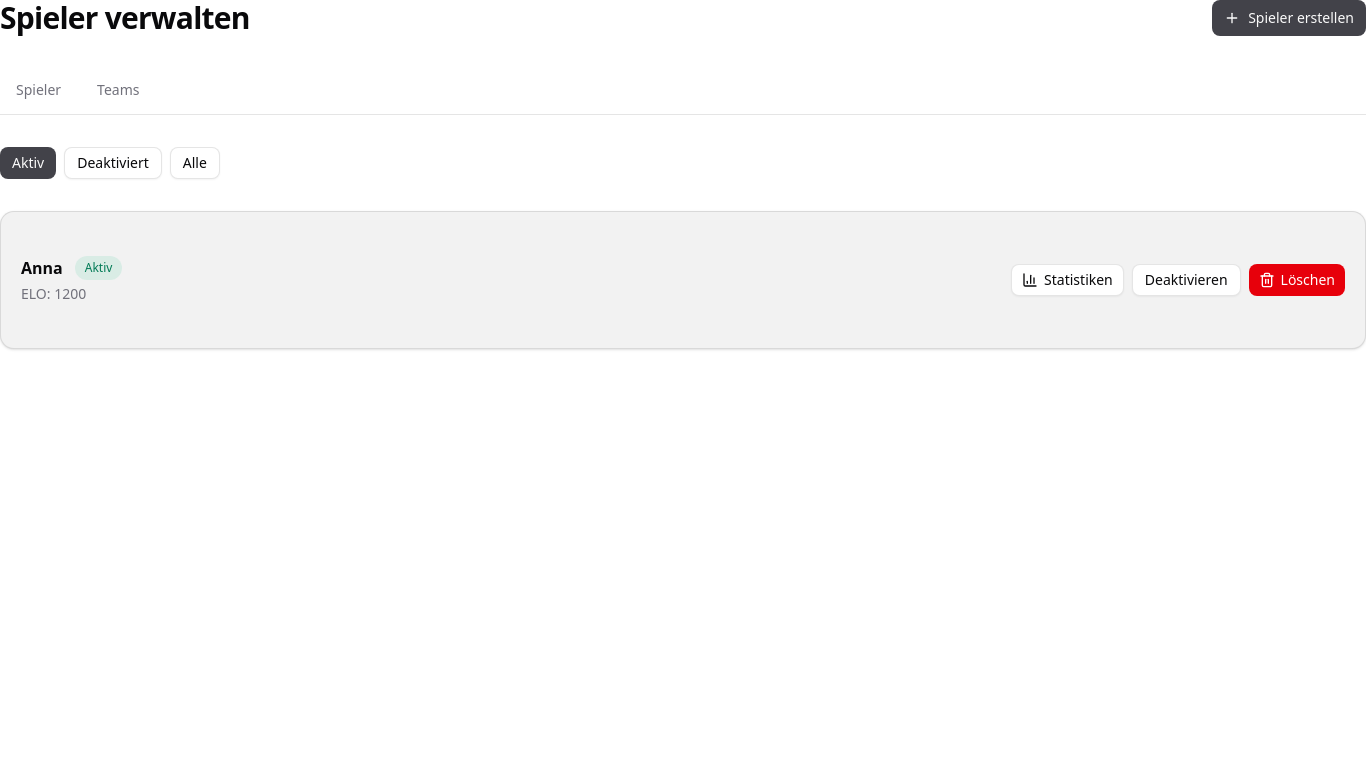
PlayersPage mutations › does not repeat a completed delete when refresh fails
Expected: the heading "Anna" is shown, [21,256,63,280]
Step 1. Click the button "Löschen" → (1297, 280), box [1249,264,1345,296]
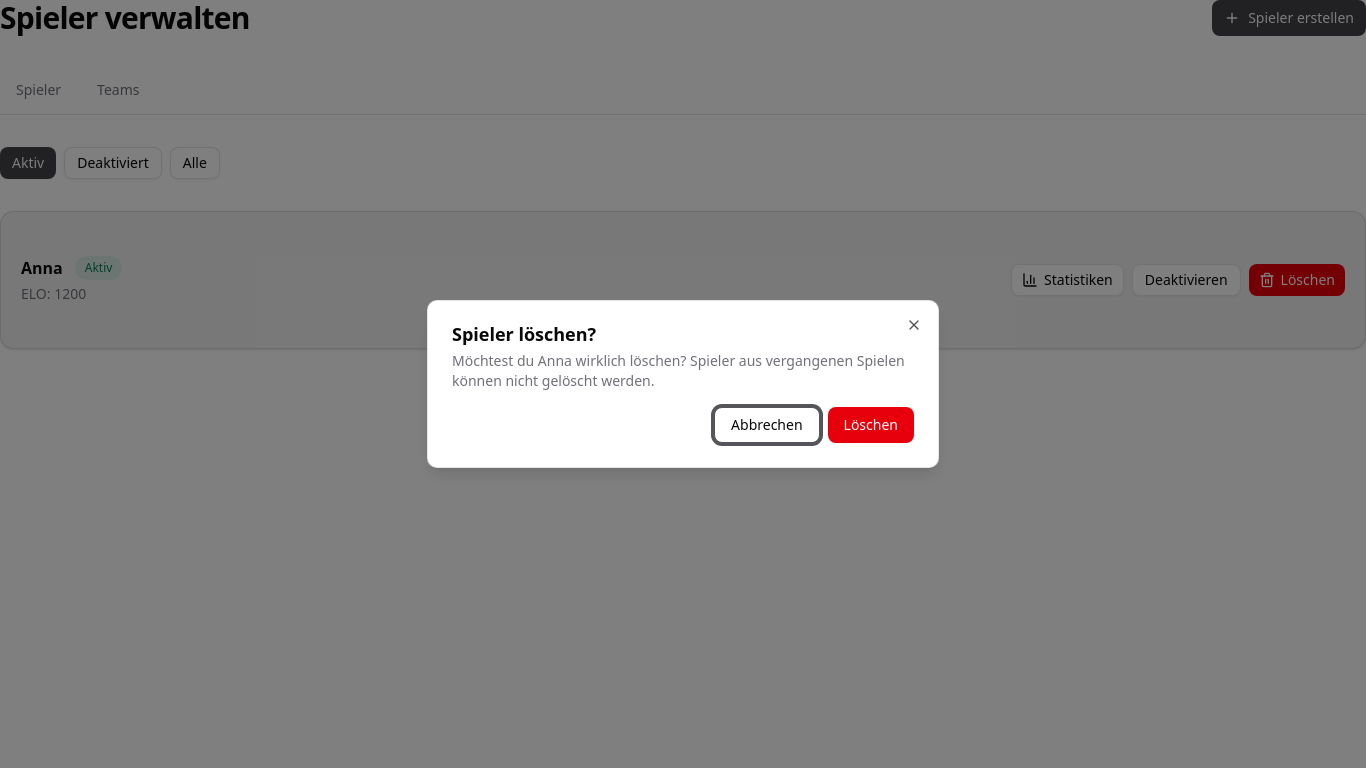
Step 2. Click the button "Löschen" → (871, 425), box [828,407,914,443]
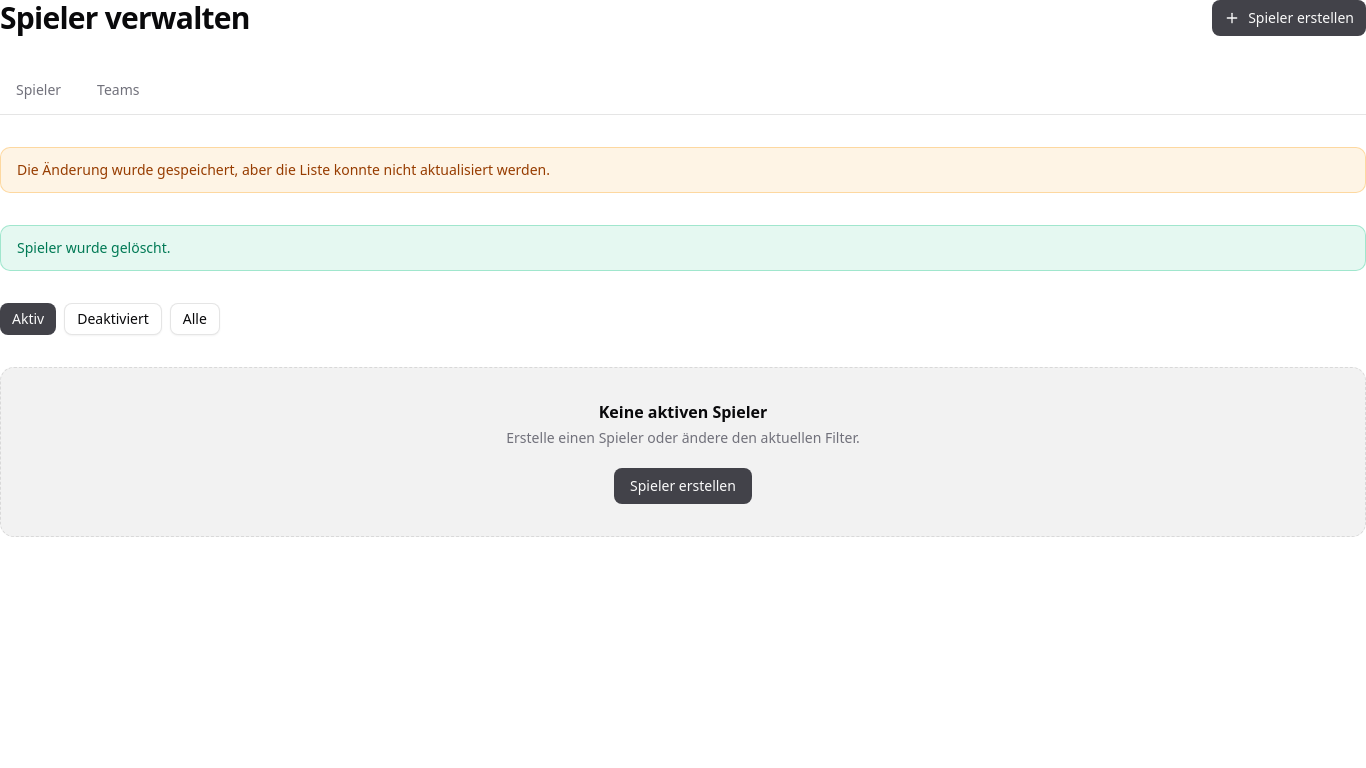
Expected: the text "Spieler wurde gelöscht." is shown, [0,225,1365,271]
Expected: the text "Die Änderung wurde gespeichert" is shown, [17,160,550,179]
